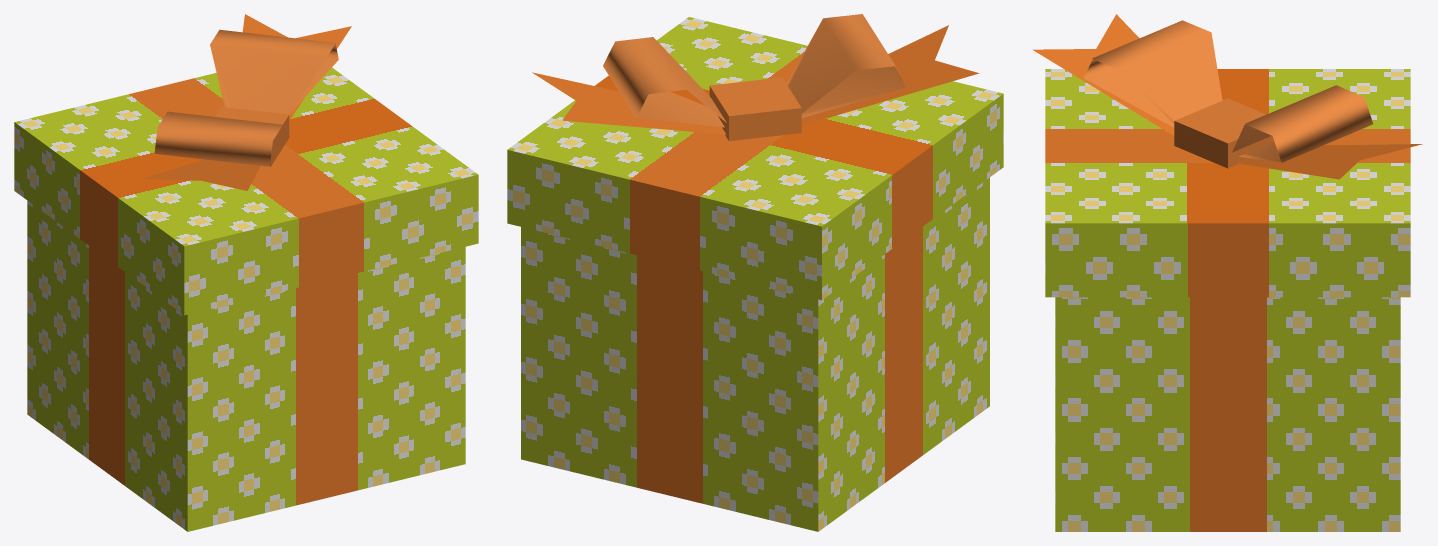
File: 05c0_Royal_Present.glb
The picture shows the model from 3 angles, left to right: view 1: azimuth 30°, elevation 25°; view 2: azimuth 150°, elevation 25°; view 3: azimuth 270°, elevation 25°; orthographic projection. The views are drawn at different scales.
Parts seen in each view (by area): view 1: part_0; view 2: part_0; view 3: part_0.
Boxes of the visible parts, x1,y1,x2,y2 form: part_0: (14,14,478,531); part_0: (507,14,1003,531); part_0: (1032,14,1422,531).
Size of the model in its own units: 5.67 by 6.09 by 5.67.
Materials: 1 (1 with a texture image).
